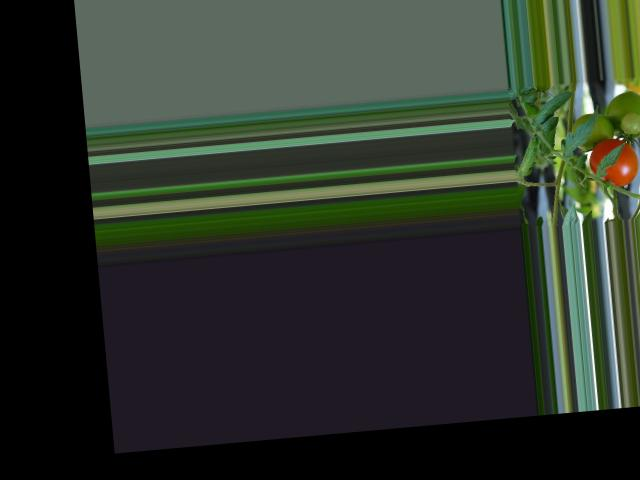tomato: (588, 136, 640, 189)
